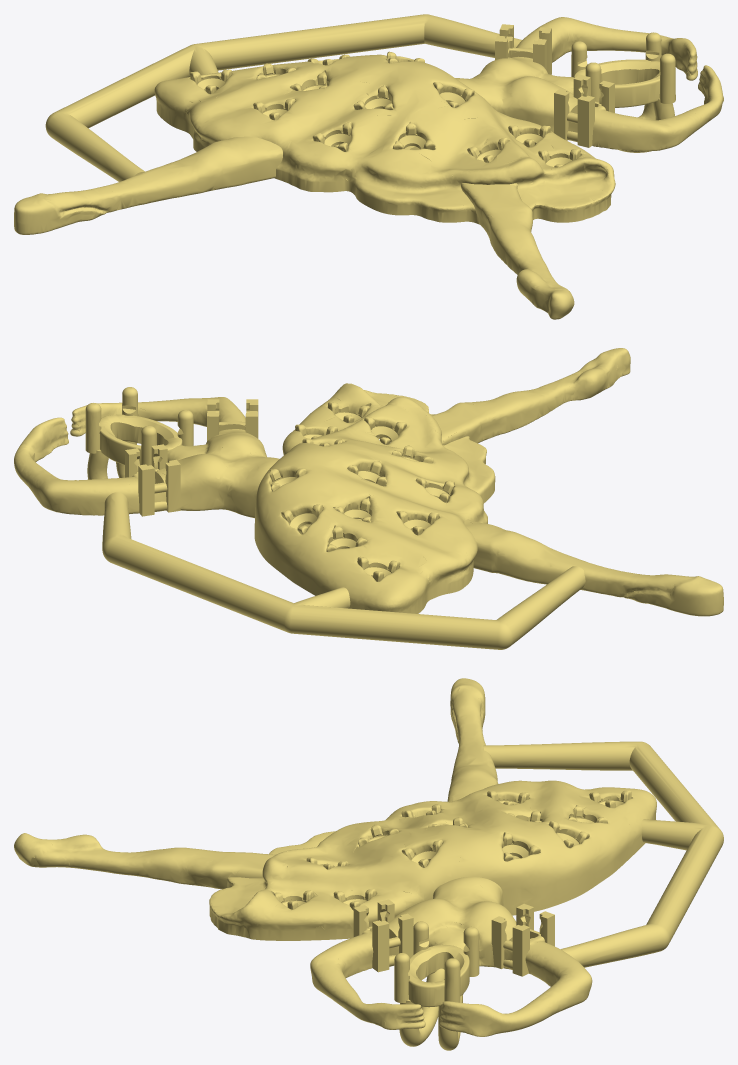
Rendered from kolyeler2-19_balerin3.glb.
3 views of the same model, one above another, from view 1: azimuth 30°, elevation 25°; view 2: azimuth 150°, elevation 25°; view 3: azimuth 270°, elevation 25° (orthographic).
Visible parts, largest first — view 1: Renderer Node; view 2: Renderer Node; view 3: Renderer Node.
Part boxes in pixels (<box>): Renderer Node: <box>14,14,723,319</box>; Renderer Node: <box>14,348,723,649</box>; Renderer Node: <box>14,678,723,1050</box>.
Size of the model in its own units: 40.77 by 6.32 by 36.82.
